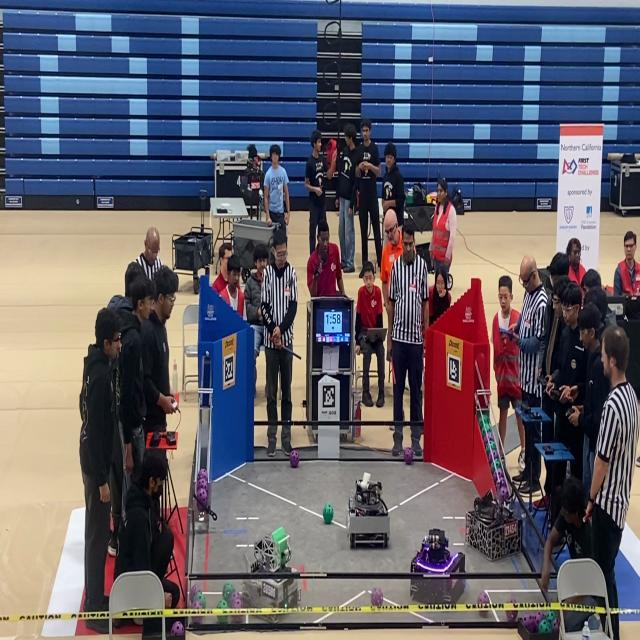artifact_green: (521, 613, 538, 634), (222, 582, 235, 602), (190, 583, 202, 603), (538, 619, 552, 634), (323, 504, 333, 524), (477, 591, 490, 606), (194, 592, 206, 608), (535, 610, 545, 626), (480, 414, 490, 429), (552, 616, 560, 634), (491, 460, 501, 474), (545, 611, 556, 623), (506, 610, 517, 622), (487, 441, 496, 455), (481, 430, 490, 443), (482, 432, 489, 448), (217, 599, 228, 609), (490, 451, 500, 461), (487, 430, 495, 442), (481, 424, 490, 434), (486, 443, 491, 459), (192, 601, 202, 609), (479, 420, 484, 430)
artifact_purple: (522, 614, 537, 633), (196, 489, 208, 510), (229, 592, 243, 609), (190, 584, 202, 603), (371, 588, 383, 606), (538, 619, 552, 634), (230, 592, 243, 608), (500, 473, 510, 493), (499, 483, 509, 503), (171, 621, 184, 635), (194, 592, 206, 607), (497, 470, 507, 487), (477, 591, 489, 605), (290, 450, 299, 468), (404, 448, 413, 465), (535, 611, 545, 626), (493, 469, 501, 486), (552, 616, 560, 633), (196, 479, 208, 490), (506, 610, 517, 622), (490, 450, 500, 462), (493, 475, 499, 494), (191, 600, 203, 609), (493, 472, 499, 489), (197, 469, 207, 479), (492, 467, 498, 482), (499, 469, 505, 482), (483, 432, 488, 447), (487, 430, 494, 440)
